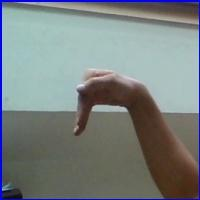del: (70, 61, 149, 140)
